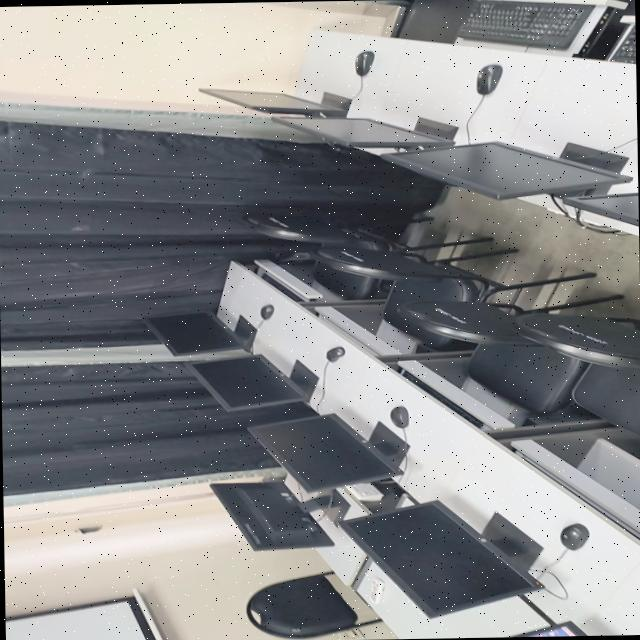Chair: (315, 246, 595, 328), (396, 300, 587, 413), (513, 313, 640, 434), (244, 215, 492, 261), (246, 571, 382, 638), (395, 0, 472, 42), (534, 294, 622, 310)
Keyboard: (458, 0, 594, 48), (609, 23, 636, 62)
Monitor: (342, 499, 539, 617), (383, 141, 631, 198), (248, 412, 408, 491), (210, 480, 333, 550), (188, 354, 305, 410), (279, 116, 453, 148), (143, 310, 256, 354), (198, 87, 326, 113), (563, 191, 638, 225)
Mouse: (476, 63, 502, 94), (560, 522, 588, 549), (354, 50, 374, 75), (390, 405, 408, 427), (326, 346, 345, 361), (260, 303, 273, 318)
